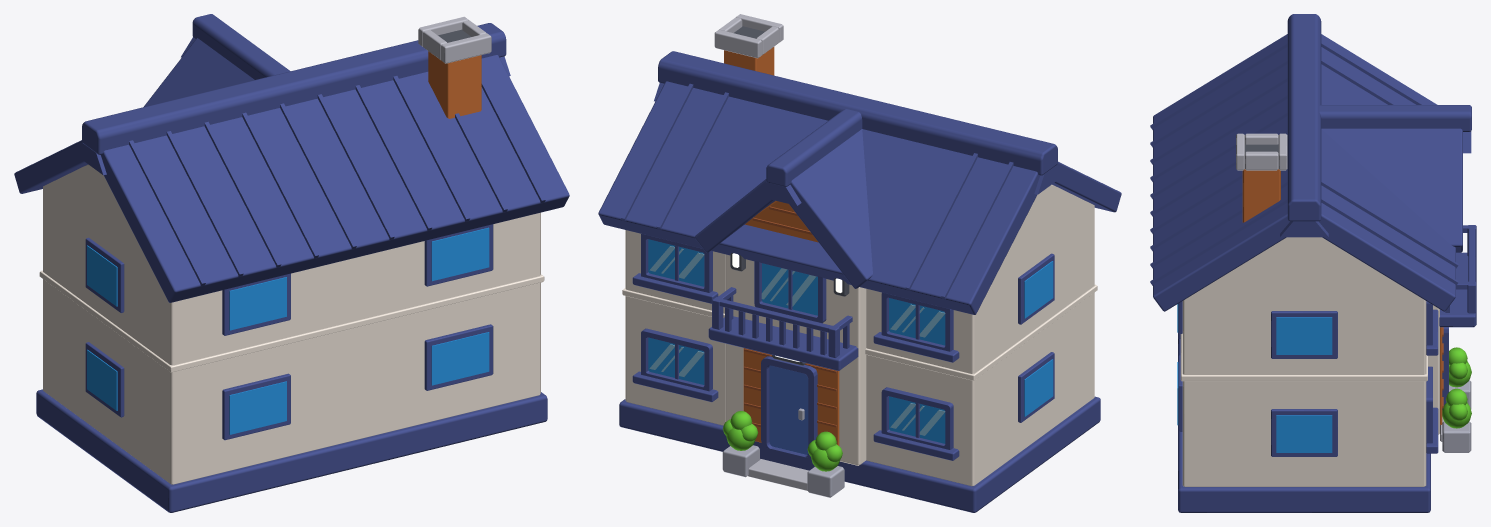
The model's file is GableHouse.glb.
3 renders of one model, left to right at view 1: azimuth 30°, elevation 25°; view 2: azimuth 150°, elevation 25°; view 3: azimuth 270°, elevation 25°, orthographic. The views are drawn at different scales.
Parts seen in each view (by area): view 1: M_GableHouse_RoofNavy, M_GableHouse_HouseWall, M_GableHouse_TruckCab, M_GableHouse_ToyLeg, M_GableHouse_PlaneFlap; view 2: M_GableHouse_RoofNavy, M_GableHouse_HouseWall, M_GableHouse_TruckCab, M_GableHouse_ToyLeg, M_GableHouse_PlaneFlap, M_GableHouse_TowerBlue, M_GableHouse_Glass, M_GableHouse_Leaves, M_GableHouse_Steel, M_GableHouse_FenceWood, M_GableHouse_ToyDark; view 3: M_GableHouse_RoofNavy, M_GableHouse_HouseWall, M_GableHouse_TruckCab, M_GableHouse_ToyLeg, M_GableHouse_PlaneFlap, M_GableHouse_Leaves, M_GableHouse_Steel.
Boxes of the visible parts, bbox=[...] form: M_GableHouse_RoofNavy: bbox=[14, 14, 569, 512]; M_GableHouse_HouseWall: bbox=[39, 164, 544, 484]; M_GableHouse_TruckCab: bbox=[87, 227, 489, 434]; M_GableHouse_ToyLeg: bbox=[428, 51, 481, 118]; M_GableHouse_PlaneFlap: bbox=[418, 16, 491, 63]; M_GableHouse_RoofNavy: bbox=[598, 51, 1121, 512]; M_GableHouse_HouseWall: bbox=[622, 184, 1097, 486]; M_GableHouse_TruckCab: bbox=[648, 239, 1053, 443]; M_GableHouse_ToyLeg: bbox=[724, 47, 839, 445]; M_GableHouse_PlaneFlap: bbox=[714, 14, 808, 490]; M_GableHouse_TowerBlue: bbox=[769, 365, 808, 454]; M_GableHouse_Glass: bbox=[649, 246, 945, 435]; M_GableHouse_Leaves: bbox=[723, 411, 842, 471]; M_GableHouse_Steel: bbox=[722, 408, 844, 497]; M_GableHouse_FenceWood: bbox=[744, 206, 836, 444]; M_GableHouse_ToyDark: bbox=[730, 26, 849, 365]; M_GableHouse_RoofNavy: bbox=[1150, 14, 1476, 512]; M_GableHouse_HouseWall: bbox=[1180, 237, 1439, 486]; M_GableHouse_TruckCab: bbox=[1177, 304, 1332, 452]; M_GableHouse_ToyLeg: bbox=[1242, 169, 1442, 424]; M_GableHouse_PlaneFlap: bbox=[1236, 133, 1443, 441]; M_GableHouse_Leaves: bbox=[1442, 347, 1471, 428]; M_GableHouse_Steel: bbox=[1442, 380, 1471, 452].
Bounding box in the file's own units: 14.55 × 12.6 × 10.71.
